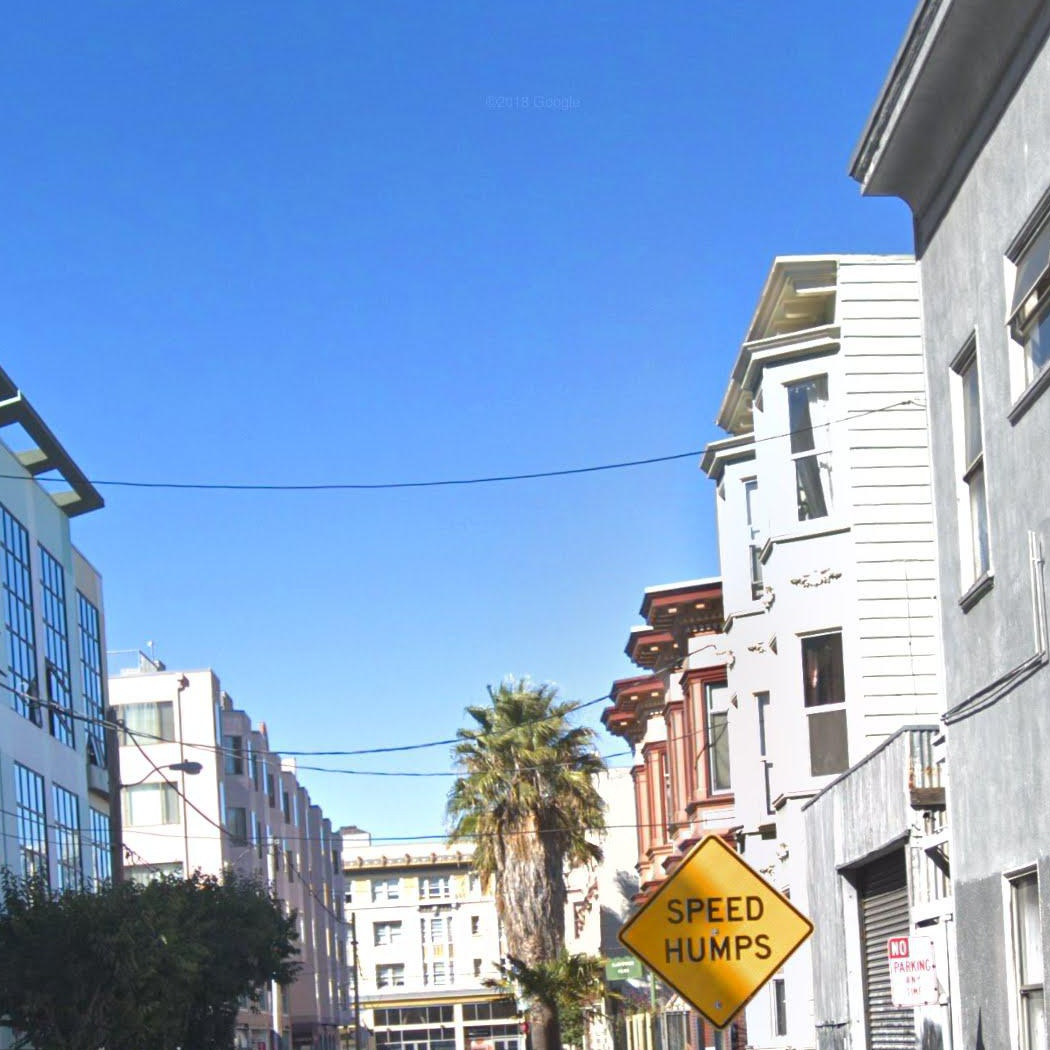No Parking Anytime: (887, 933, 941, 1010)
